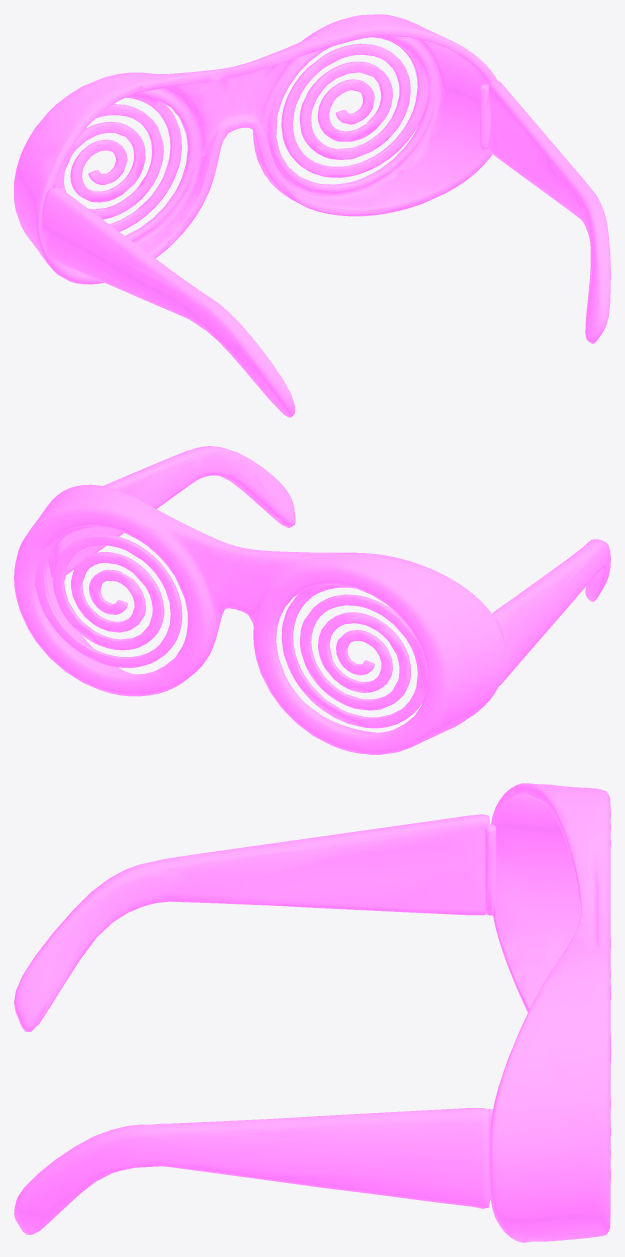
Rendered from hypno_glasses.fbx.
3 renders of one model, top to bottom at view 1: azimuth 30°, elevation 25°; view 2: azimuth 150°, elevation 25°; view 3: azimuth 270°, elevation 25°, orthographic. The views are drawn at different scales.
Visible parts, largest first — view 1: obj_0; view 2: obj_0; view 3: obj_0.
Part boxes in pixels (left/top/right/bottom): obj_0: left=14, top=14, right=610, bottom=417; obj_0: left=14, top=446, right=610, bottom=754; obj_0: left=14, top=783, right=610, bottom=1242.
Bounding box in the file's own units: 16.7 × 6.38 × 13.46.
